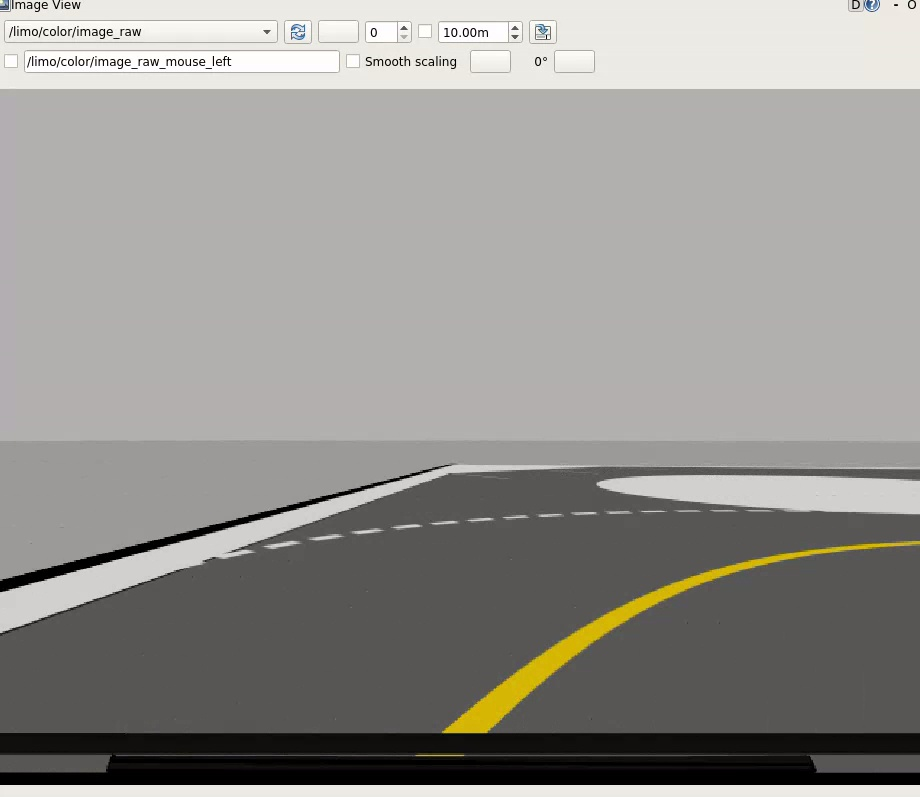Dashed: (217, 549, 253, 558), (265, 540, 299, 549), (352, 529, 381, 535), (309, 534, 341, 539), (430, 520, 458, 524), (467, 517, 492, 521), (393, 524, 419, 527), (537, 513, 562, 516), (675, 510, 700, 513), (504, 515, 527, 518), (572, 512, 595, 515), (607, 510, 630, 513), (711, 509, 734, 512), (643, 510, 665, 513), (745, 509, 771, 511)
Solid: (443, 541, 919, 732)
Street: (0, 471, 919, 732), (581, 465, 918, 479)
